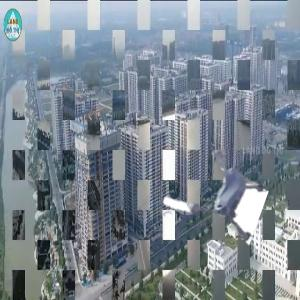drone: (167, 131, 271, 235)
